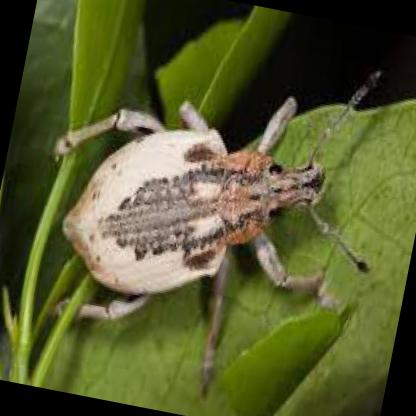ash weevil: (53, 69, 378, 395)
